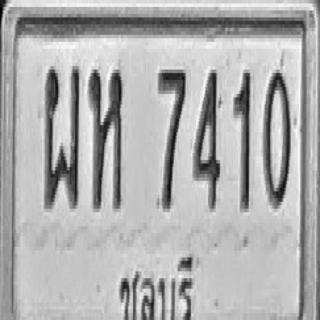A28: (44, 63, 80, 209)
A41: (88, 66, 122, 209)
N00: (263, 66, 290, 209)
N01: (233, 68, 250, 210)
N04: (193, 66, 221, 209)
N07: (157, 66, 186, 209)
P13: (115, 246, 198, 320)
